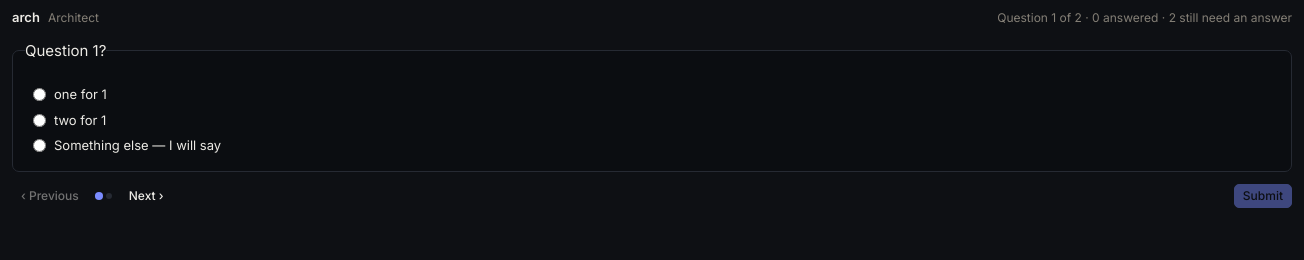
the discussion question block › DQA-FR-ROXG: the note belongs to its own question and survives paging
Step 1. Click the radio button labelled "one for 1" → click(40, 95), box [33,88,46,101]
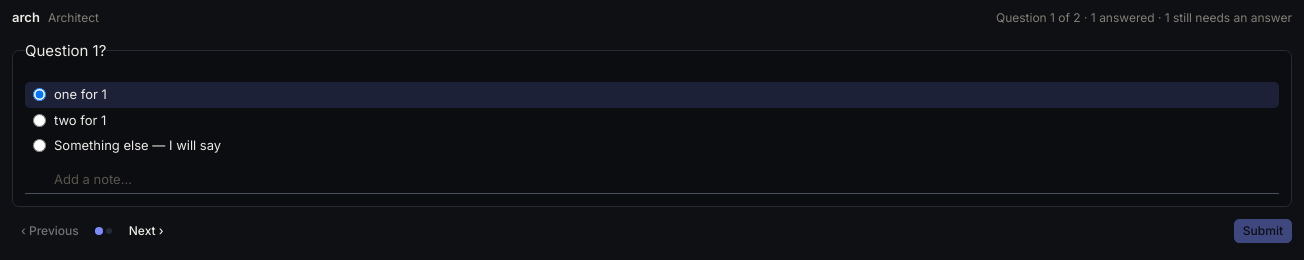
Step 2. Type "about the first" into the text box with test id "discussion-questions-note" → (652, 180), box [25,166,1279,194]
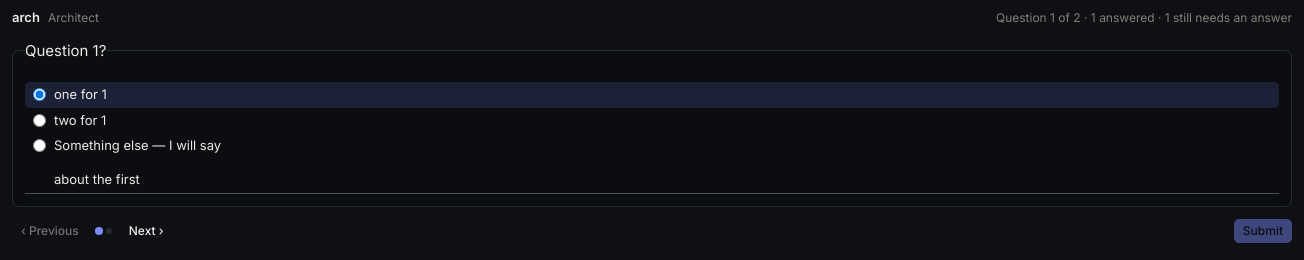
Step 3. Click the button with test id "discussion-questions-next" → click(146, 230), box [120,218,173,242]
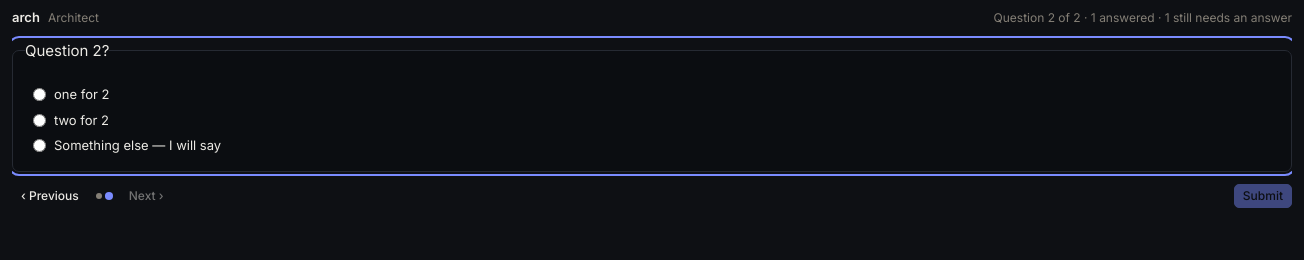
Step 4. Click the radio button labelled "one for 2" → click(40, 95), box [33,88,46,101]
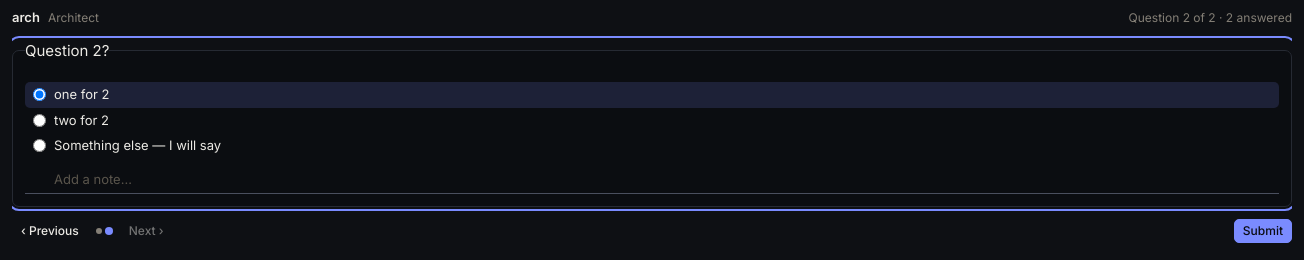
Check: the text box with test id "discussion-questions-note" is empty, box [25,166,1279,194]
Step 5. Click the button with test id "discussion-questions-previous" → click(50, 230), box [12,218,88,242]
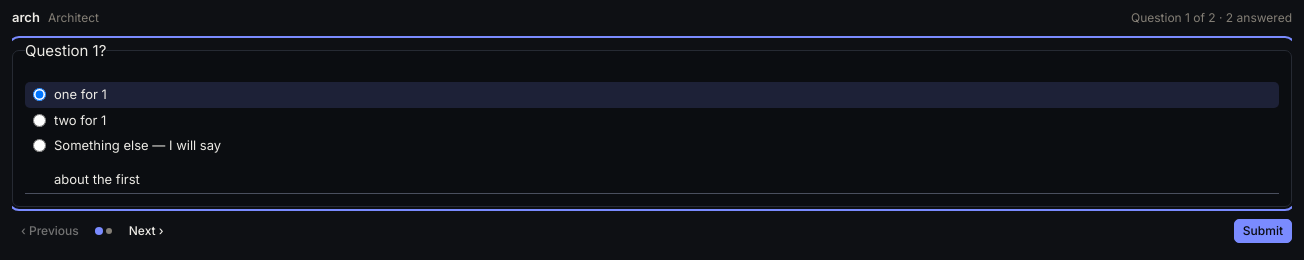
Check: the text box with test id "discussion-questions-note" holds "about the first", box [25,166,1279,194]
